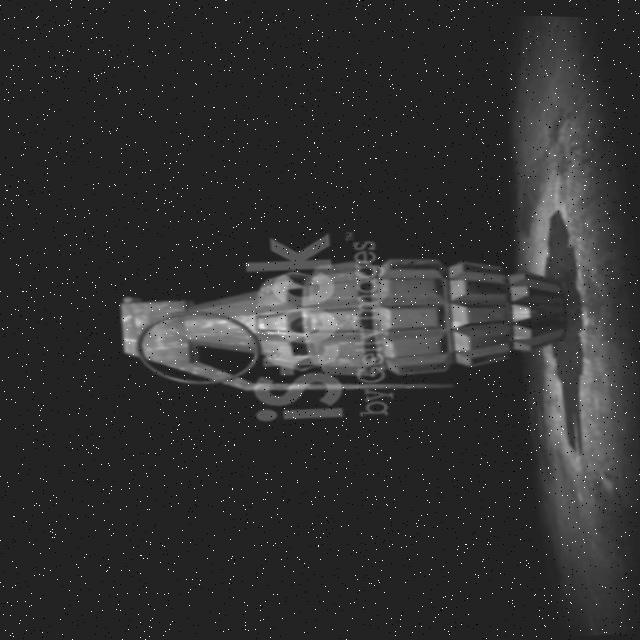grenade: (94, 227, 584, 417)
